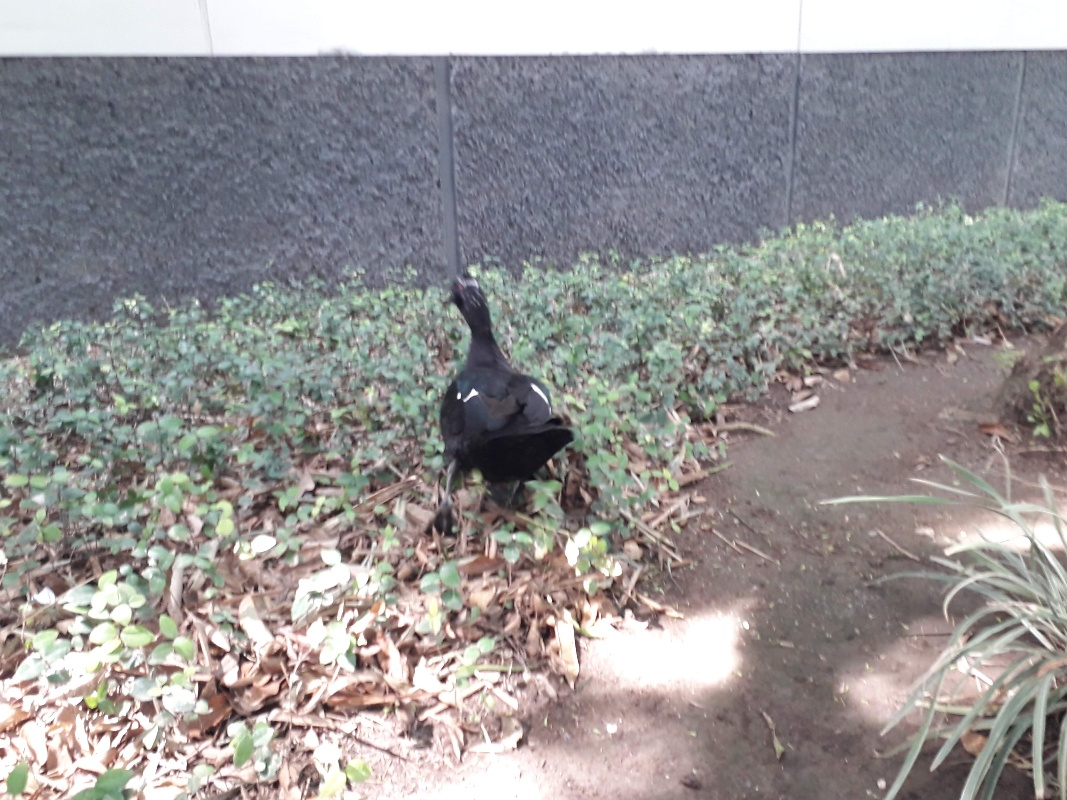pato: (442, 278, 574, 488)
